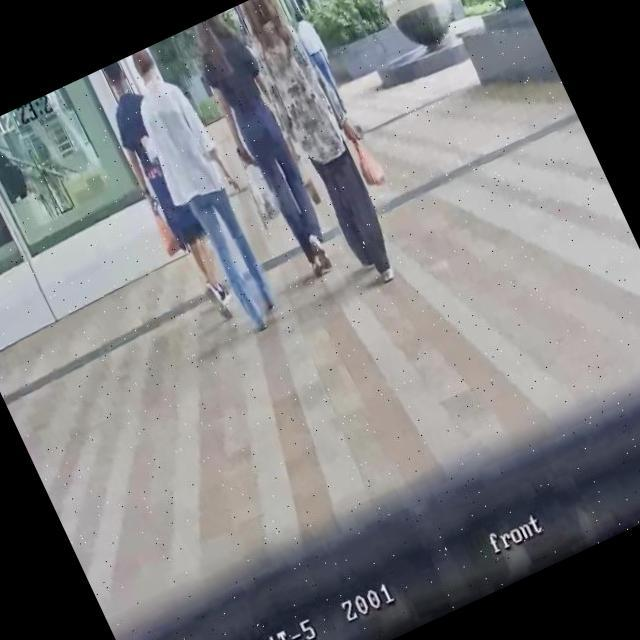person: (106, 38, 297, 346), (228, 0, 417, 293), (182, 8, 351, 285), (88, 57, 245, 330), (288, 6, 354, 119)
